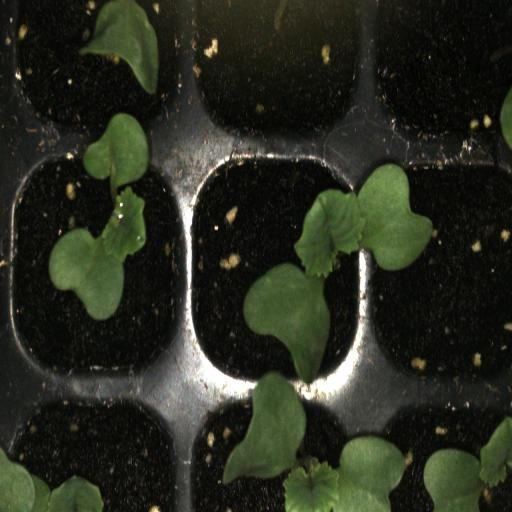noseedling: (368, 159, 512, 396), (188, 0, 368, 141)
seedling: (186, 141, 367, 391), (6, 143, 186, 393), (184, 382, 367, 512)
